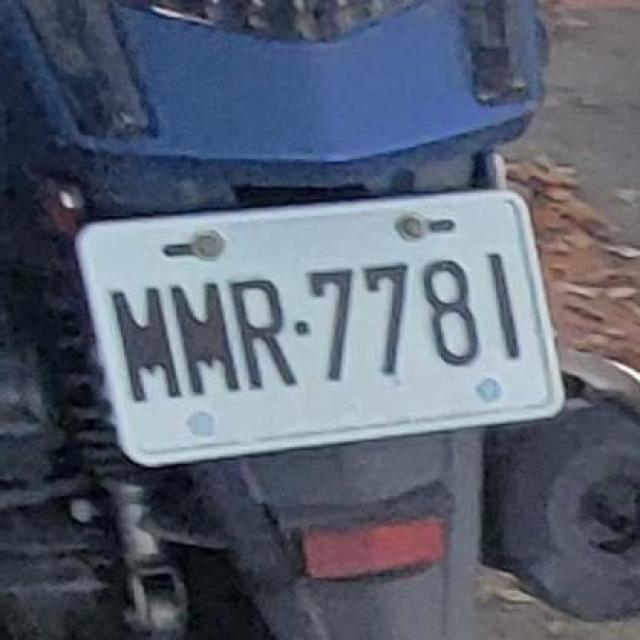W: (75, 174, 560, 490)
